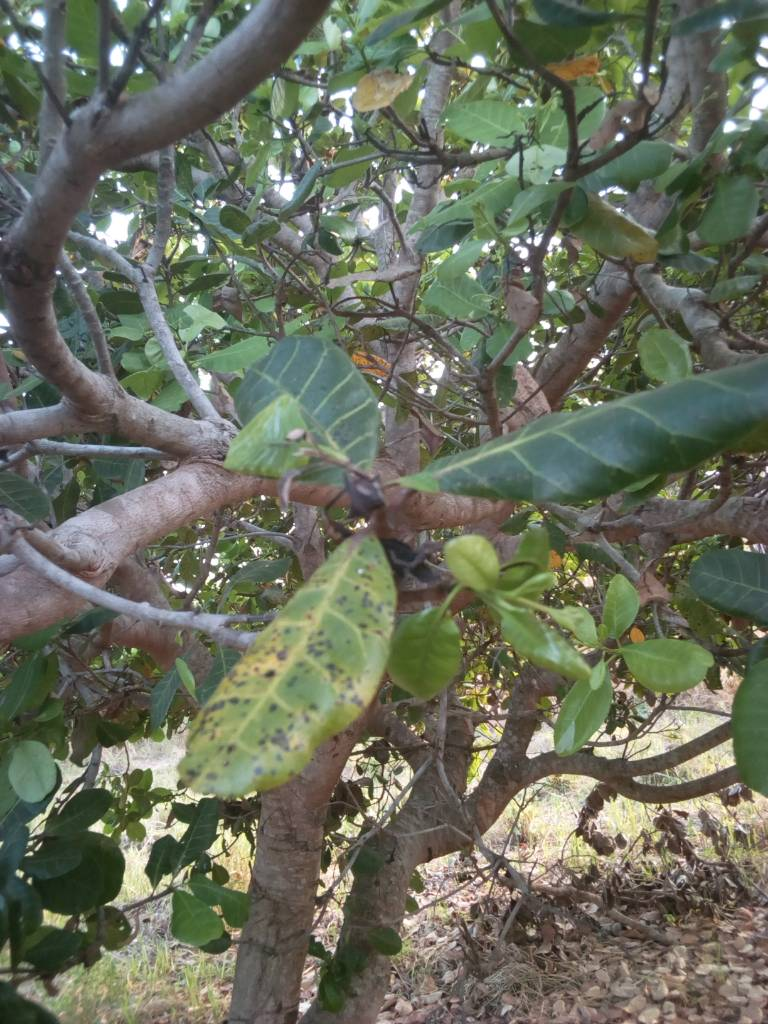Anthracnose: (169, 525, 394, 807)
